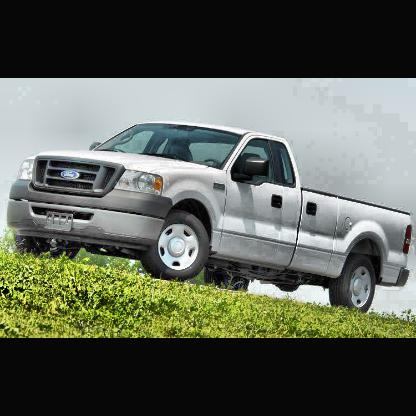Ford F-150 Regular Cab 2007: (7, 122, 411, 313)
